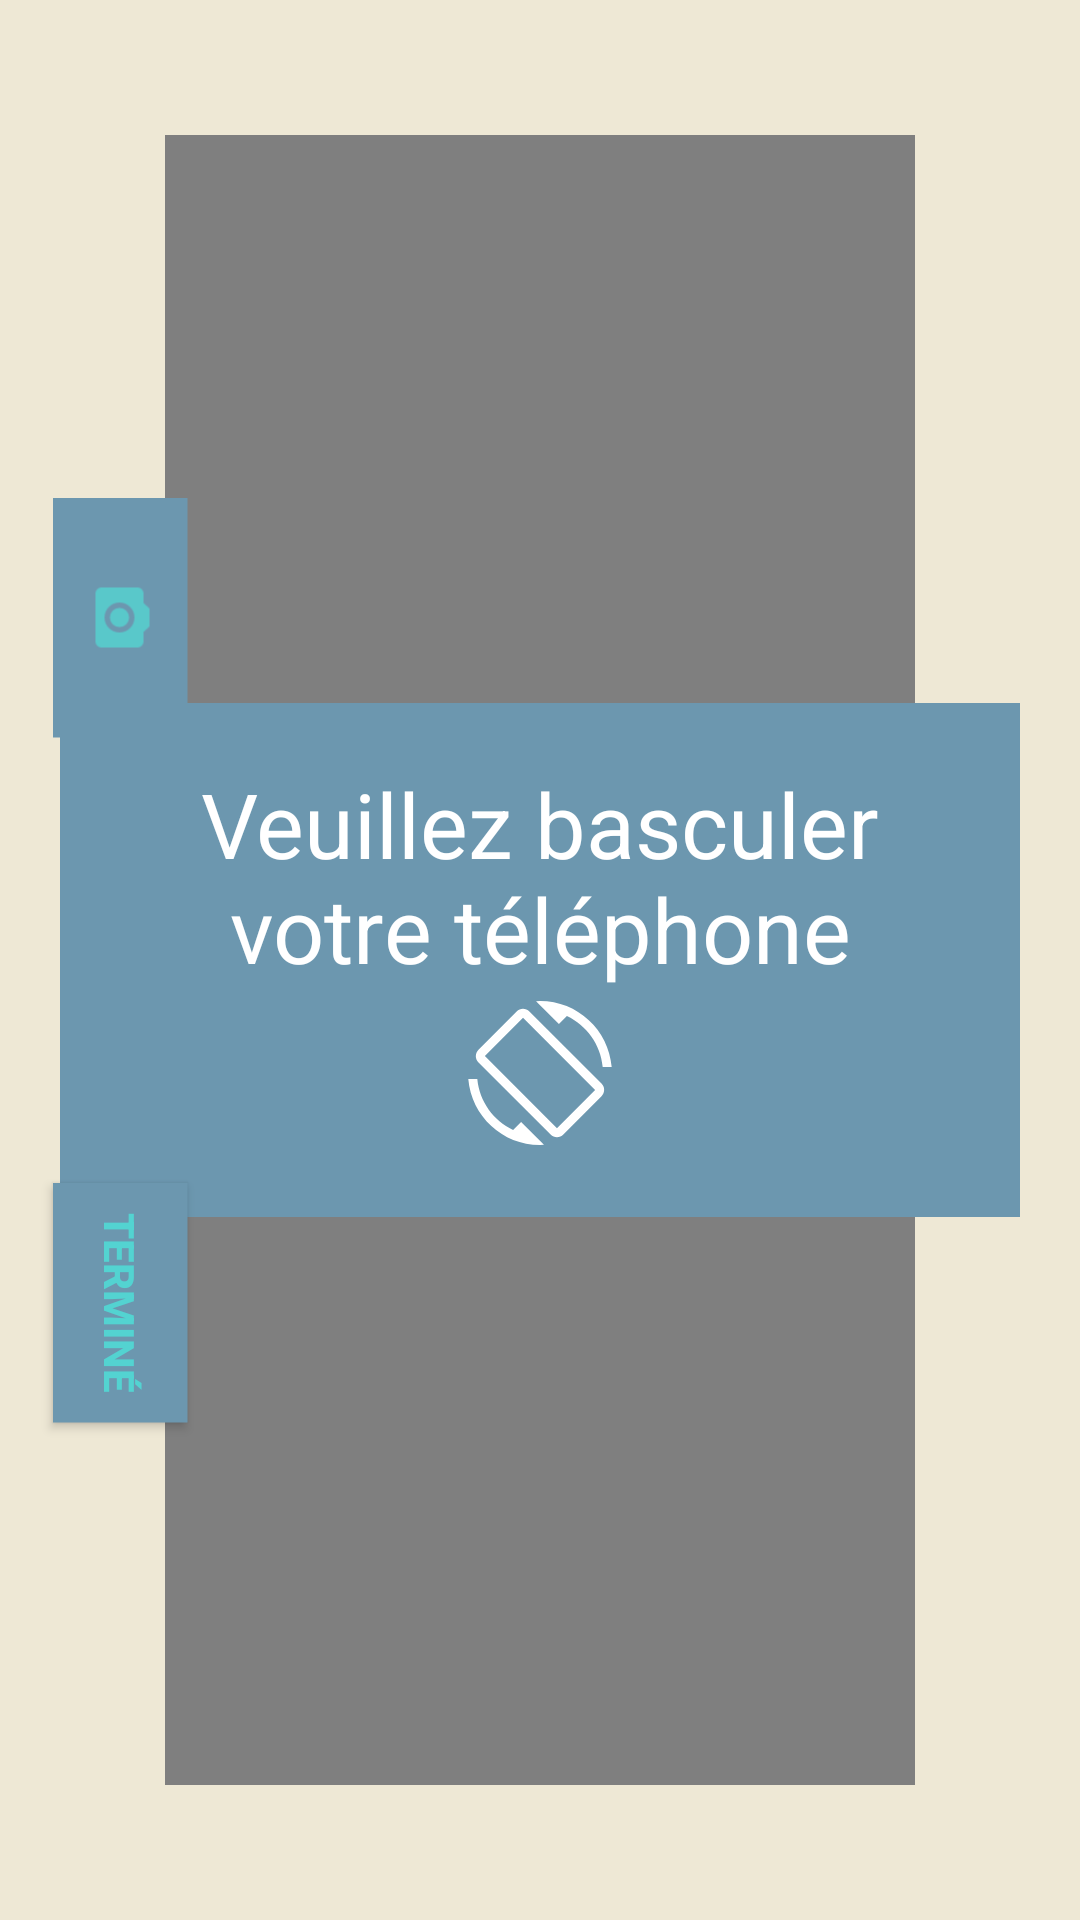

Locate icon controls on the screen. Image size 1080x1920, boxes as region(x1, y1, x2, y2).
rotation: region(468, 1001, 612, 1145)
